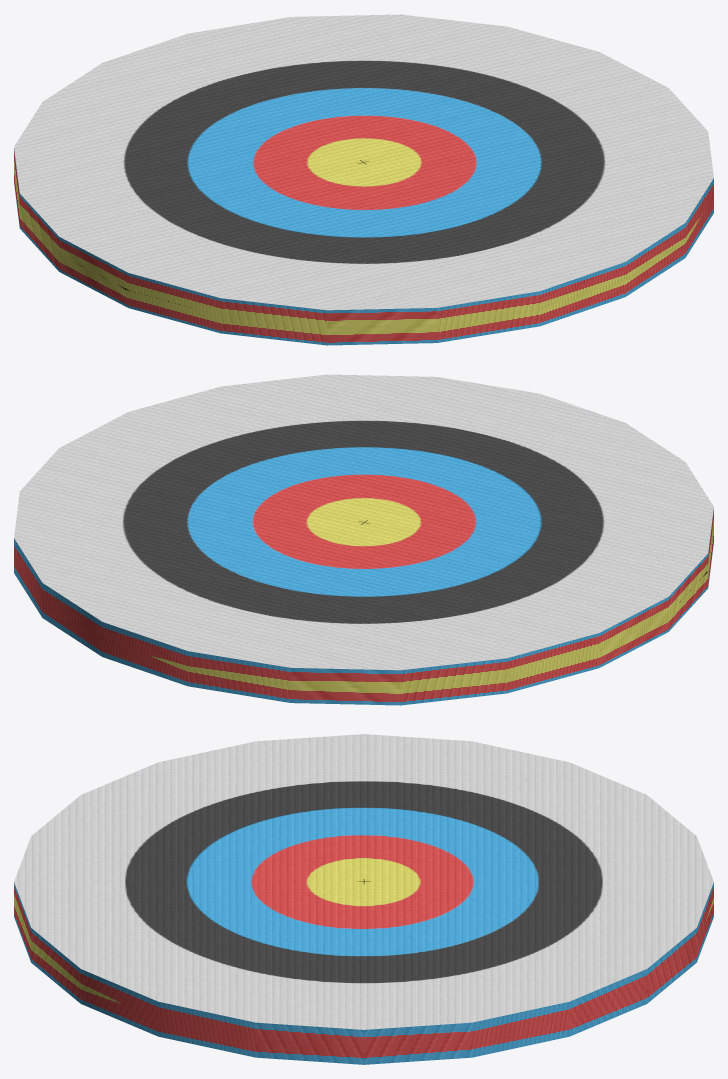
File: newTarget.fbx
3 renders of one model, top to bottom at view 1: azimuth 30°, elevation 25°; view 2: azimuth 150°, elevation 25°; view 3: azimuth 270°, elevation 25°, orthographic.
Visible parts, largest first — view 1: pCylinder1; view 2: pCylinder1; view 3: pCylinder1.
Part boxes in pixels (left/top/right/bottom): pCylinder1: left=14, top=14, right=713, bottom=345; pCylinder1: left=14, top=374, right=713, bottom=705; pCylinder1: left=14, top=734, right=713, bottom=1064.
Bounding box in the file's own units: 23.85 × 1.32 × 23.85.
1 material, 1 textured.
